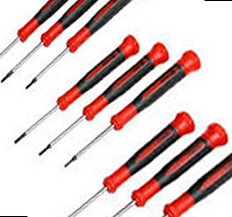Screwdriver: (18, 34, 209, 170)
